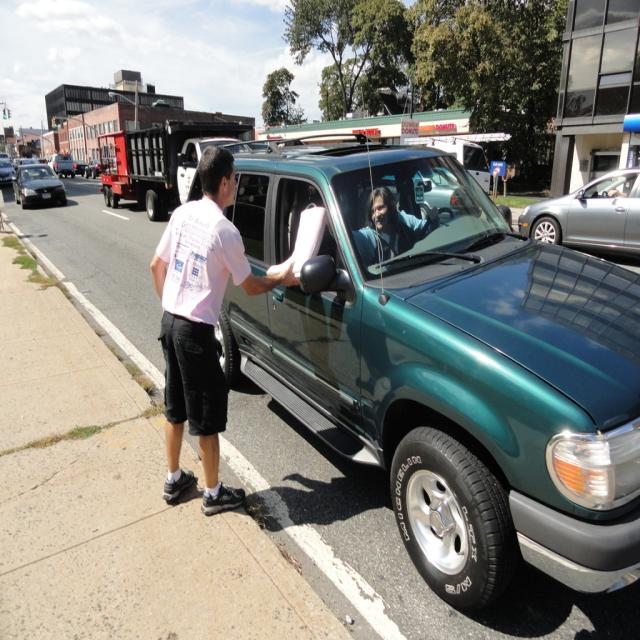car: (180, 119, 635, 603), (16, 163, 66, 209)
